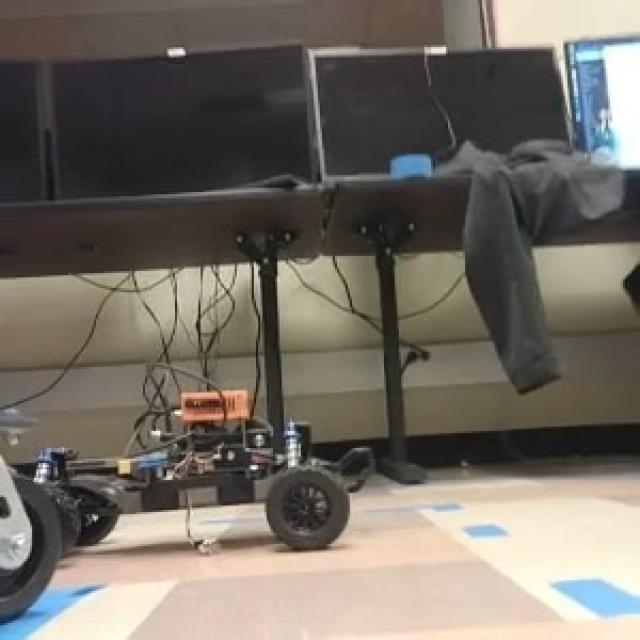obstacle: (68, 388, 347, 552)
